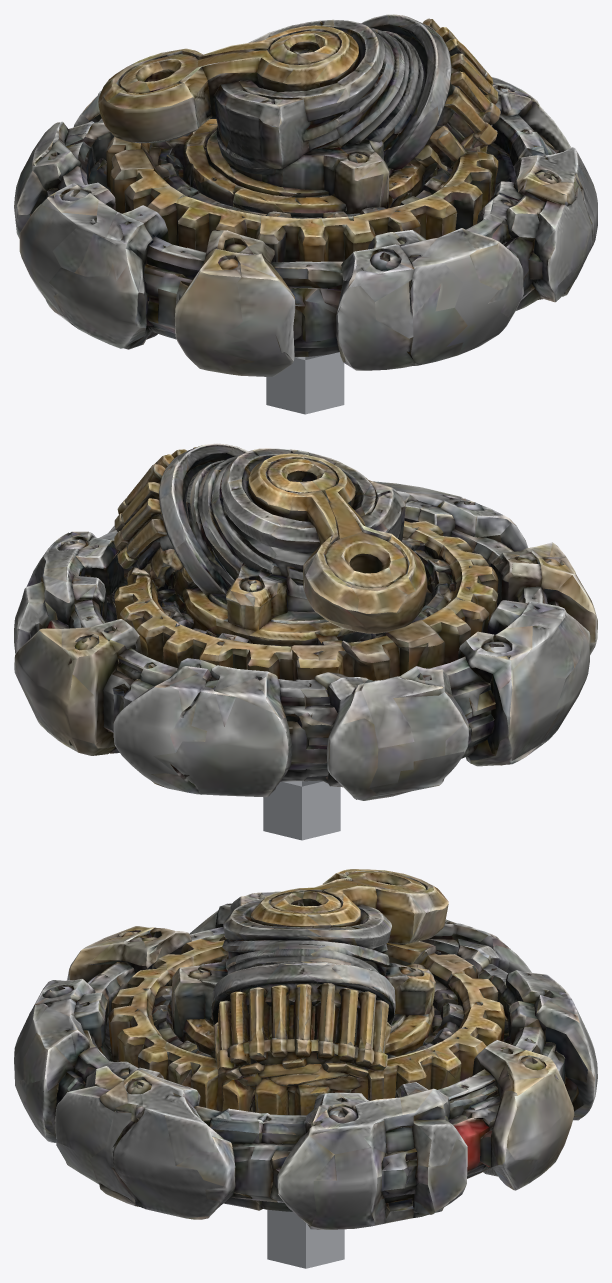
Rendered from windlas.glb.
3 views of the same model, one above another, from view 1: azimuth 30°, elevation 25°; view 2: azimuth 150°, elevation 25°; view 3: azimuth 270°, elevation 25° (orthographic).
Parts seen in each view (by area): view 1: mesh_node; view 2: mesh_node; view 3: mesh_node.
Boxes of the visible parts, box(x1,y1,x2,y2) form: mesh_node: box(14, 14, 597, 414); mesh_node: box(14, 443, 597, 840); mesh_node: box(14, 869, 597, 1268).
Bounding box in the file's own units: 19.75 × 10.65 × 19.58.
2 materials, 1 textured.
